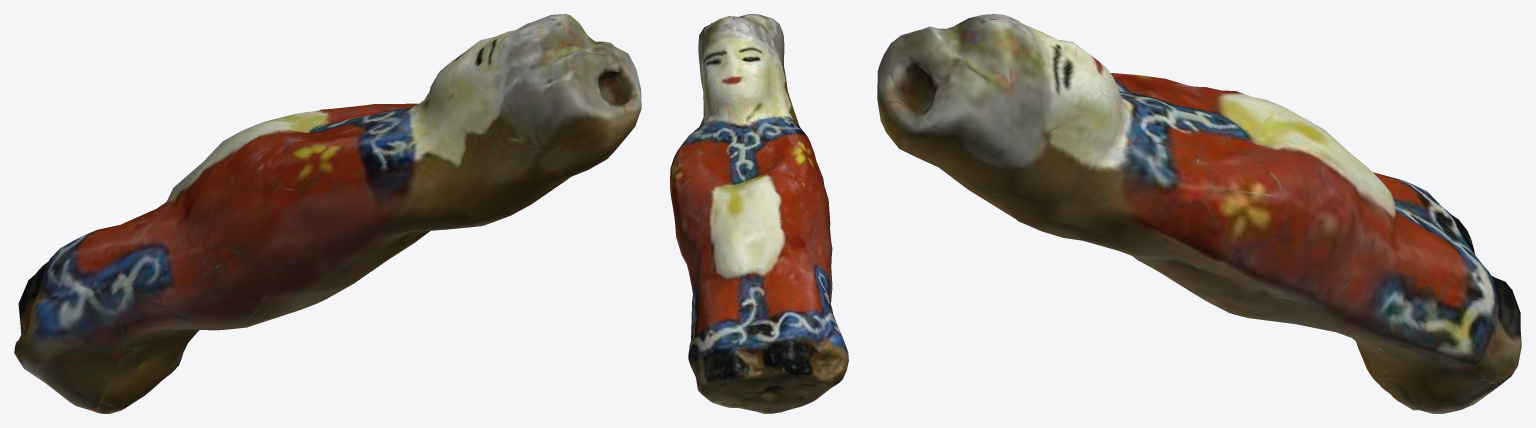
Rendered from hall.glb.
The picture shows the model from 3 angles, left to right: view 1: azimuth 30°, elevation 25°; view 2: azimuth 150°, elevation 25°; view 3: azimuth 270°, elevation 25°; orthographic projection. The views are drawn at different scales.
Size of the model in its own units: 0.5705 by 0.5909 by 0.6716.
1 material, 1 textured.
